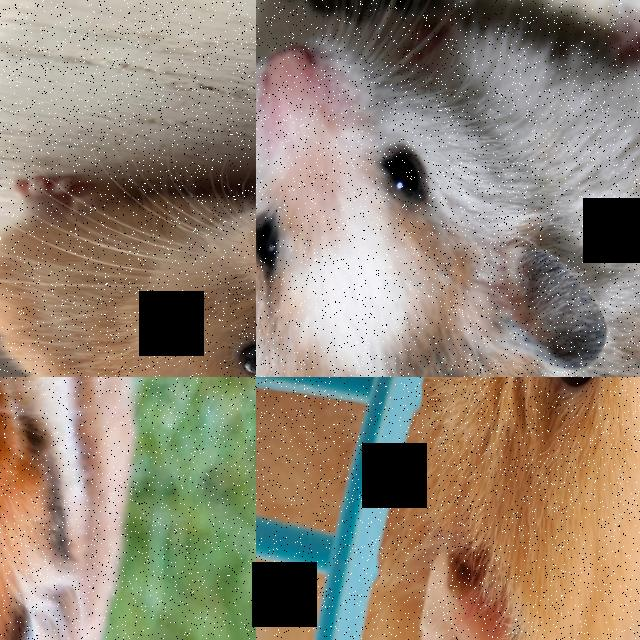hamster: (256, 8, 640, 377), (256, 377, 640, 640), (0, 166, 256, 377), (0, 377, 139, 640)
